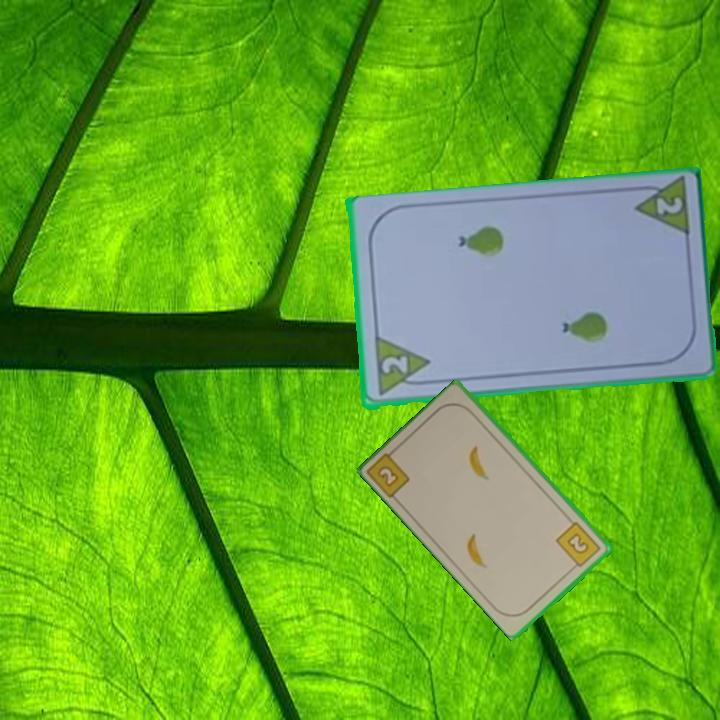2b: (553, 518, 604, 573), (365, 443, 413, 501)
2p: (377, 352, 411, 377), (652, 194, 685, 218)
